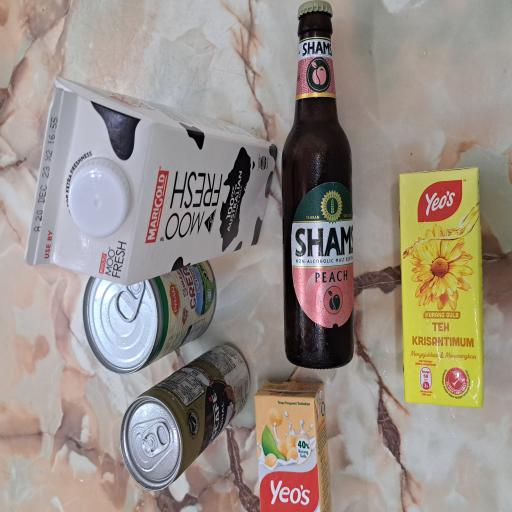can: (15, 160, 128, 334), (102, 109, 189, 288)
drink carton: (168, 32, 328, 370), (0, 338, 100, 442)
glass bottle: (106, 375, 384, 473)
plastic bottle cap: (206, 91, 267, 176)
pop tab: (141, 152, 174, 194), (41, 188, 68, 227)
